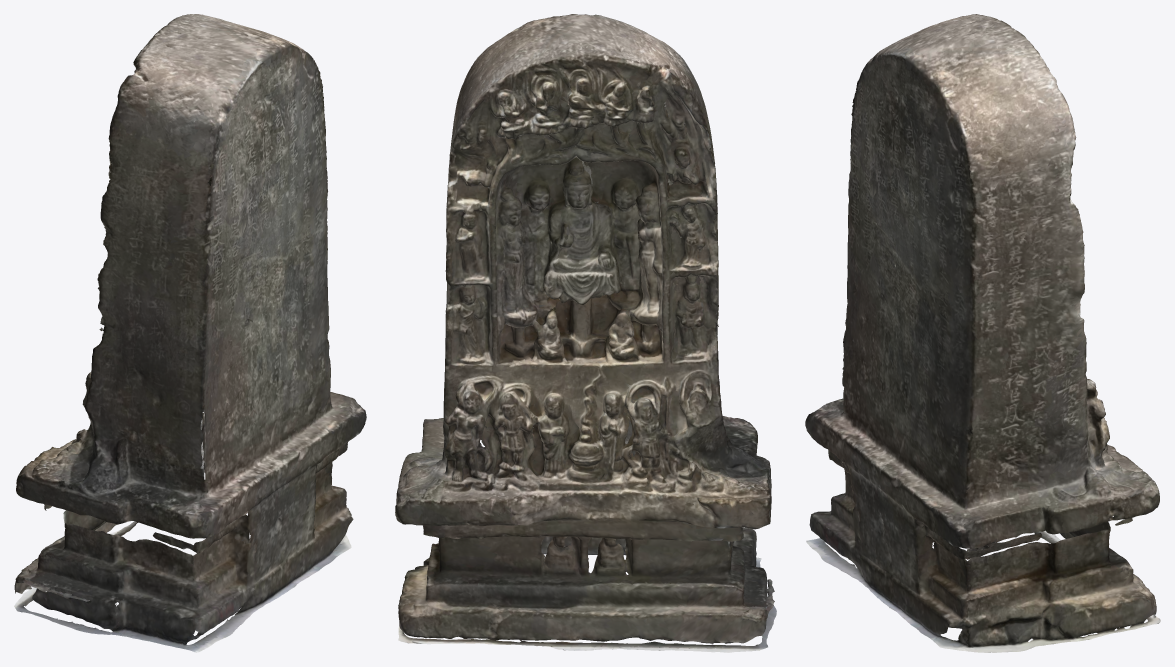
File: proton-scan-20260811122415.glb
3 renders of one model, left to right at view 1: azimuth 30°, elevation 25°; view 2: azimuth 150°, elevation 25°; view 3: azimuth 270°, elevation 25°, orthographic. The views are drawn at different scales.
Visible parts, largest first — view 1: ProtonScan20260811122415; view 2: ProtonScan20260811122415; view 3: ProtonScan20260811122415.
Boxes of the visible parts, x1,y1,x2,y2 form: ProtonScan20260811122415: [14, 14, 366, 652]; ProtonScan20260811122415: [395, 14, 776, 652]; ProtonScan20260811122415: [805, 14, 1160, 652].
Bounding box in the file's own units: 2.96 × 4.5 × 2.63.
1 material, 1 textured.
